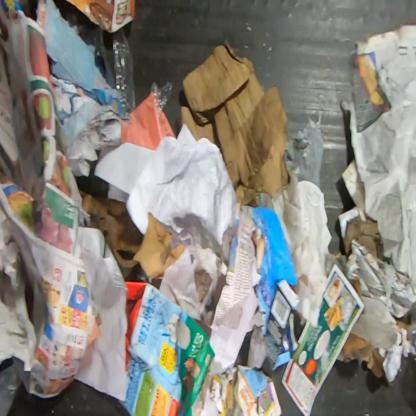cardboard: (180, 39, 291, 206), (114, 280, 216, 415), (266, 279, 308, 372), (65, 0, 137, 34)
soft_plastic: (284, 109, 325, 188), (112, 26, 137, 114), (150, 80, 174, 121)
